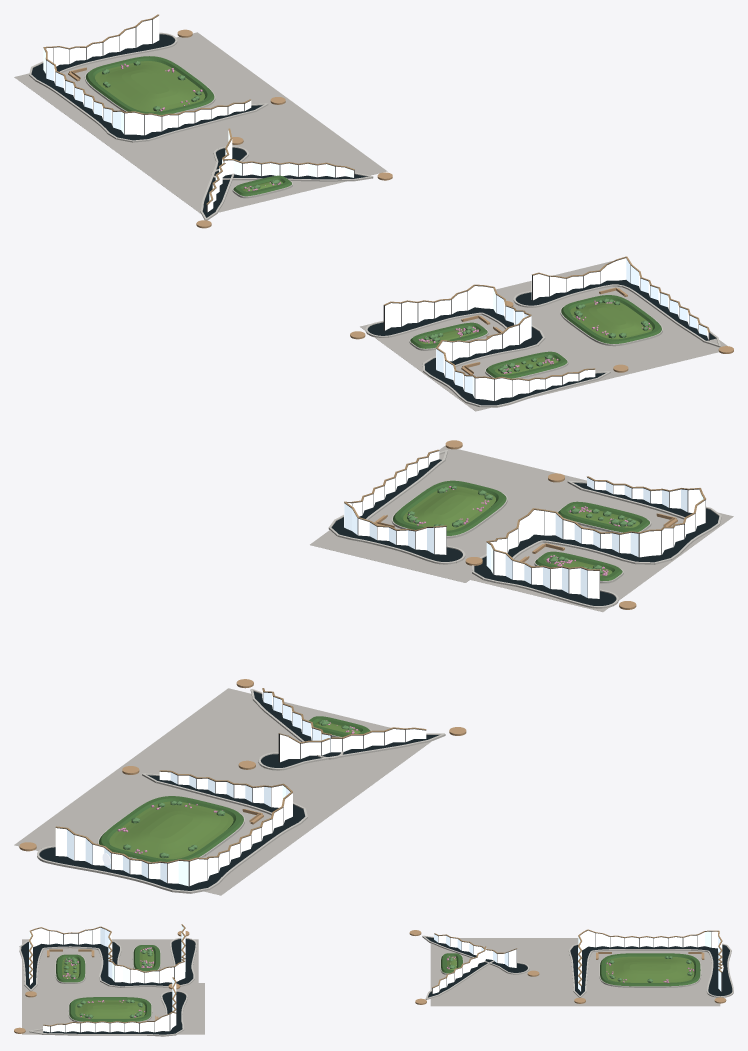
The model's file is wg_opt1.glb.
The picture shows the model from 3 angles, top to bottom: view 1: azimuth 30°, elevation 25°; view 2: azimuth 150°, elevation 25°; view 3: azimuth 270°, elevation 25°; orthographic projection. The views are drawn at different scales.
Parts seen in each view (by area): view 1: PR_WG_Bakseok, PR_WG_ScrWater, PR_WG_GardenLawn, PR_WG_BakseokS, PR_WG_ScrBasinWater, PR_WG_ScrBasinCurb, PR_WG_ScrCaps, PR_WG_ScrPanels, PR_WG_ScrBenches, PR_WG_GardenKerb, PR_WG_GardenShrubs; view 2: PR_WG_Bakseok, PR_WG_ScrWater, PR_WG_BakseokS, PR_WG_GardenLawn, PR_WG_ScrBasinWater, PR_WG_ScrBasinCurb, PR_WG_ScrCaps, PR_WG_ScrPanels, PR_WG_ScrBenches, PR_WG_GardenShrubs, PR_WG_GardenKerb; view 3: PR_WG_Bakseok, PR_WG_ScrWater, PR_WG_BakseokS, PR_WG_GardenLawn, PR_WG_ScrBasinWater, PR_WG_ScrBasinCurb, PR_WG_ScrCaps, PR_WG_ScrPanels, PR_WG_ScrBenches, PR_WG_GardenShrubs, PR_WG_GardenKerb, PR_WG_GardenFlowers.
Part boxes in pixels (bbox=[...]): PR_WG_Bakseok: bbox=[14, 32, 387, 213]; PR_WG_ScrWater: bbox=[43, 16, 708, 400]; PR_WG_GardenLawn: bbox=[86, 56, 661, 378]; PR_WG_BakseokS: bbox=[360, 261, 727, 411]; PR_WG_ScrBasinWater: bbox=[31, 34, 716, 405]; PR_WG_ScrBasinCurb: bbox=[29, 32, 720, 407]; PR_WG_ScrCaps: bbox=[43, 14, 710, 380]; PR_WG_ScrPanels: bbox=[45, 15, 709, 400]; PR_WG_ScrBenches: bbox=[68, 29, 733, 374]; PR_WG_GardenKerb: bbox=[84, 63, 662, 378]; PR_WG_GardenShrubs: bbox=[102, 61, 648, 373]; PR_WG_Bakseok: bbox=[14, 688, 431, 895]; PR_WG_ScrWater: bbox=[55, 451, 705, 886]; PR_WG_BakseokS: bbox=[310, 446, 733, 611]; PR_WG_GardenLawn: bbox=[99, 480, 649, 862]; PR_WG_ScrBasinWater: bbox=[39, 459, 719, 890]; PR_WG_ScrBasinCurb: bbox=[37, 450, 721, 893]; PR_WG_ScrCaps: bbox=[55, 449, 705, 863]; PR_WG_ScrPanels: bbox=[56, 451, 705, 885]; PR_WG_ScrBenches: bbox=[19, 440, 677, 851]; PR_WG_GardenShrubs: bbox=[123, 485, 636, 858]; PR_WG_GardenKerb: bbox=[97, 487, 651, 862]; PR_WG_Bakseok: bbox=[430, 938, 720, 1006]; PR_WG_ScrWater: bbox=[29, 925, 722, 1032]; PR_WG_BakseokS: bbox=[22, 939, 204, 1034]; PR_WG_GardenLawn: bbox=[56, 945, 700, 1022]; PR_WG_ScrBasinWater: bbox=[21, 937, 732, 1034]; PR_WG_ScrBasinCurb: bbox=[19, 935, 733, 1036]; PR_WG_ScrCaps: bbox=[29, 924, 722, 1026]; PR_WG_ScrPanels: bbox=[29, 926, 722, 1032]; PR_WG_ScrBenches: bbox=[14, 930, 726, 1033]; PR_WG_GardenShrubs: bbox=[63, 948, 692, 1018]; PR_WG_GardenKerb: bbox=[55, 946, 701, 1022]; PR_WG_GardenFlowers: bbox=[62, 947, 694, 1018].
Bounding box in the file's own units: 81.2 × 7.34 × 236.
